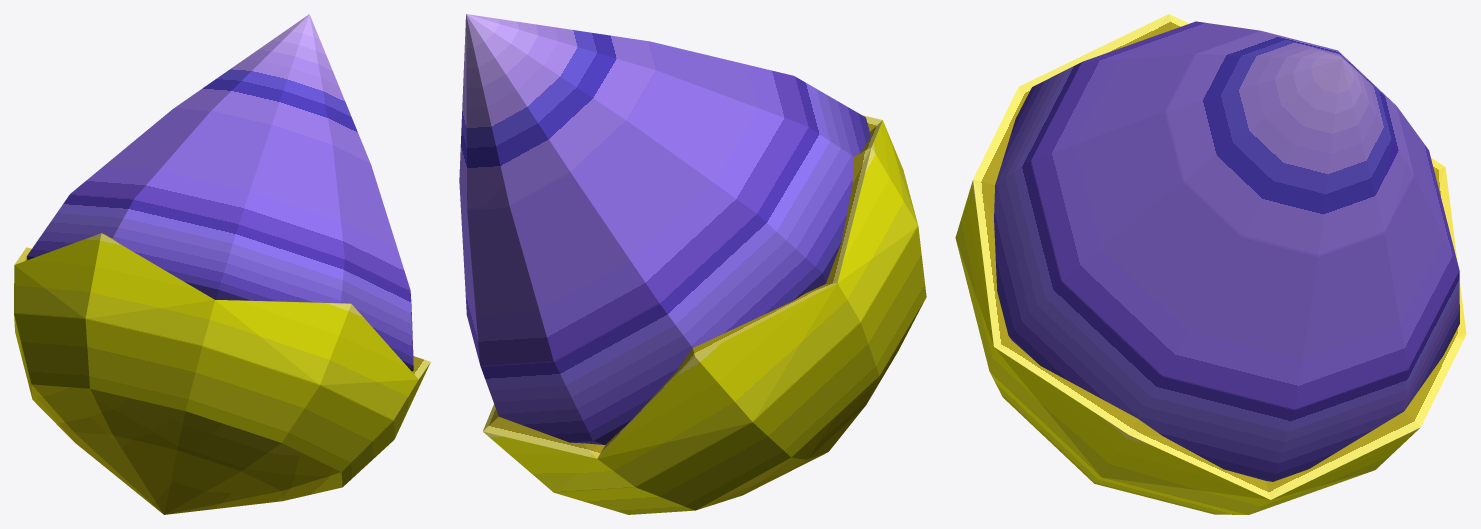
File: item_it04_06_KAGO.dae
The picture shows the model from 3 angles, left to right: view 1: azimuth 30°, elevation 25°; view 2: azimuth 150°, elevation 25°; view 3: azimuth 270°, elevation 25°; orthographic projection. The views are drawn at different scales.
Visible parts, largest first — view 1: vsn_mesh_0_kago; view 2: vsn_mesh_0_kago; view 3: vsn_mesh_0_kago.
Boxes of the visible parts, left/top/right/bottom form: vsn_mesh_0_kago: left=14, top=14, right=430, bottom=514; vsn_mesh_0_kago: left=459, top=14, right=926, bottom=514; vsn_mesh_0_kago: left=955, top=14, right=1466, bottom=514.
Size of the model in its own units: 0.3273 by 0.3658 by 0.338.
Materials: 1 (1 with a texture image).
